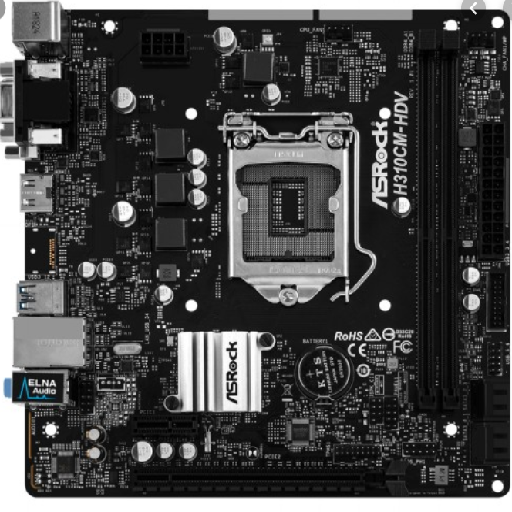CPU: (221, 109, 359, 305)
GPU: (133, 462, 410, 497)
MOTHERBOARD: (9, 5, 512, 500)
RAM: (412, 29, 465, 410)
